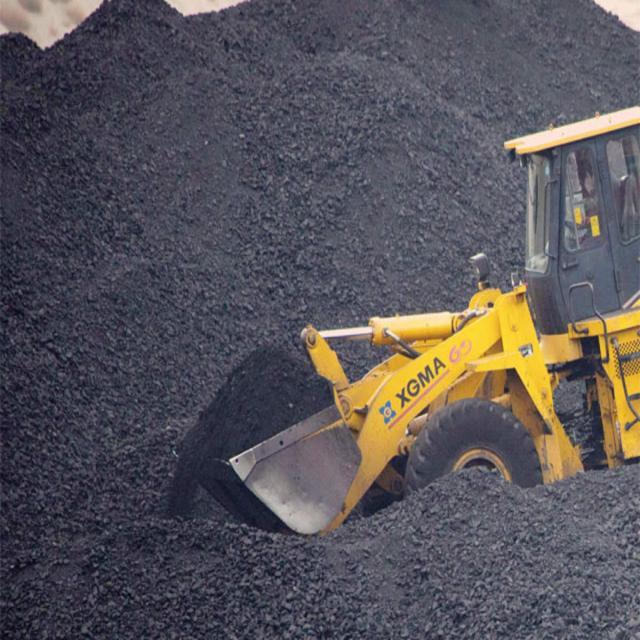buldozerpayloadergrader: (234, 116, 640, 530)
